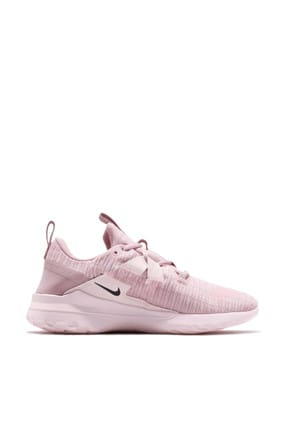nike: (93, 280, 123, 298)
